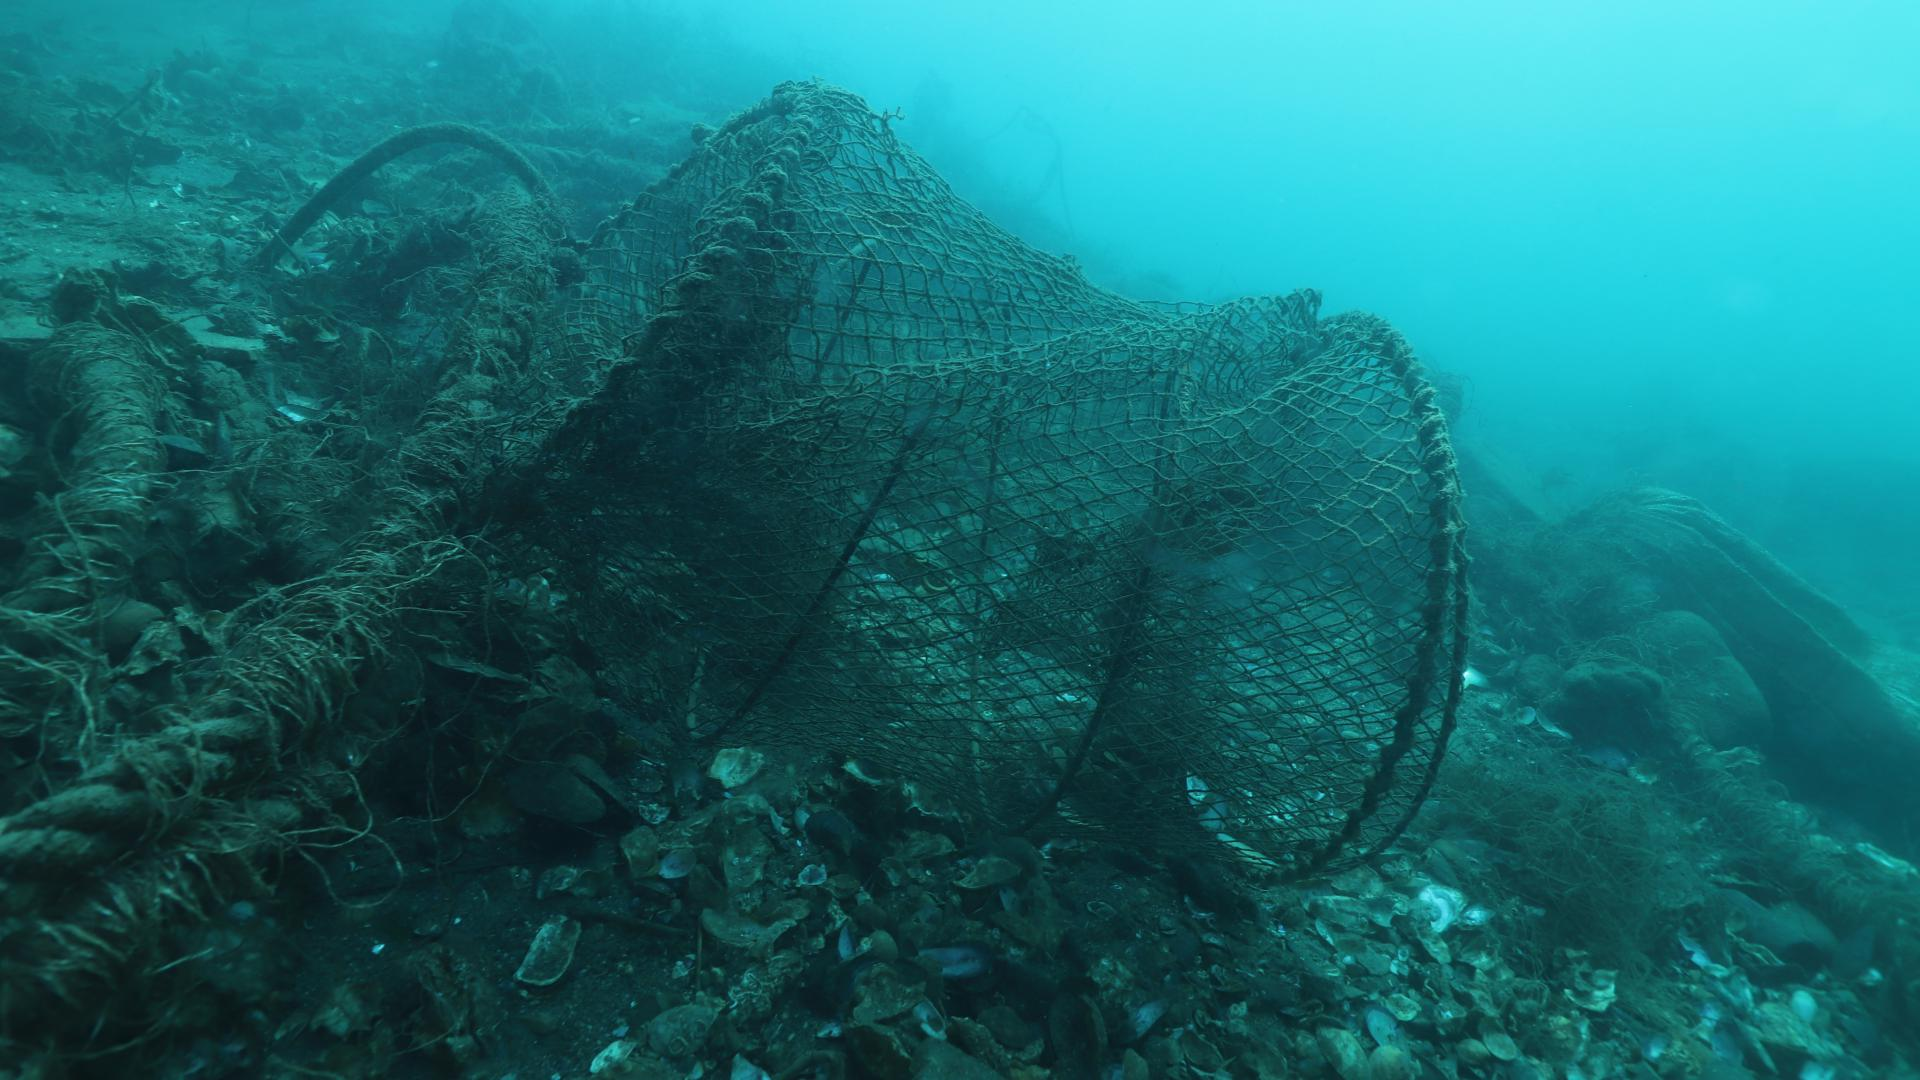rope: (0, 712, 239, 902)
spring fish trap: (485, 76, 1476, 890)
